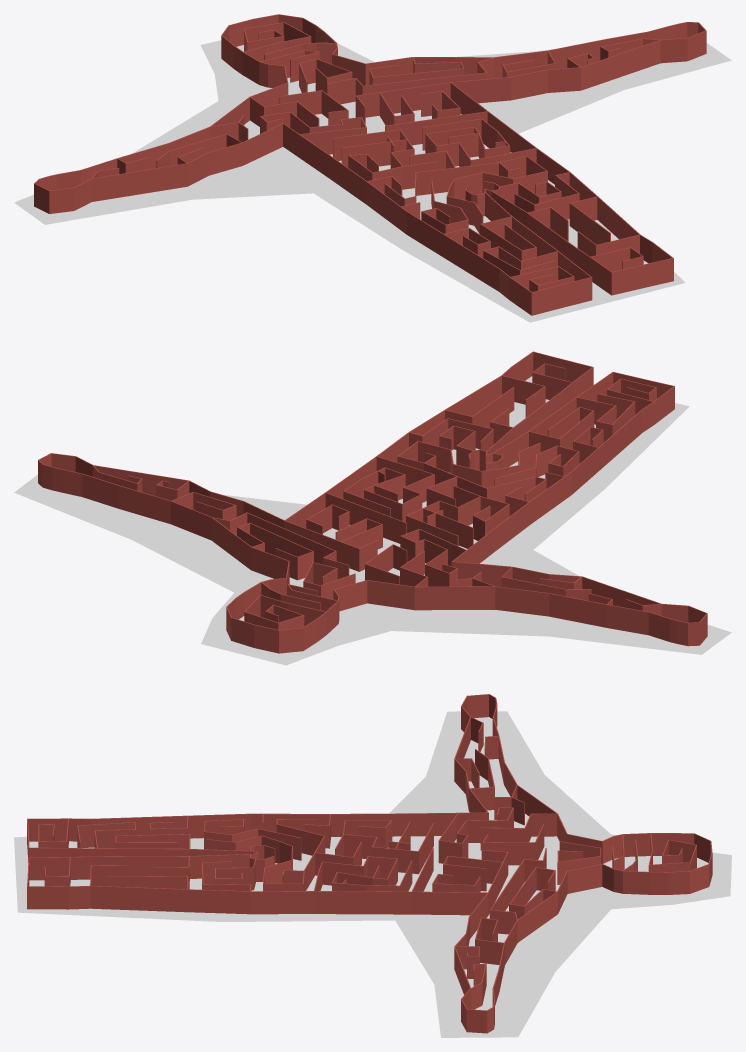
Rendered from mazemanTextured1 (1).fbx.
3 renders of one model, top to bottom at view 1: azimuth 30°, elevation 25°; view 2: azimuth 150°, elevation 25°; view 3: azimuth 270°, elevation 25°, orthographic. The views are drawn at different scales.
Parts seen in each view (by area): view 1: Cube.001; view 2: Cube.001; view 3: Cube.001.
Part boxes in pixels (<box>): Cube.001: <box>14,14,731,322</box>; Cube.001: <box>14,351,731,665</box>; Cube.001: <box>14,694,731,1037</box>.
Bounding box in the file's own units: 2318 × 76.35 × 2153.
Materials: 2 (1 with a texture image).
